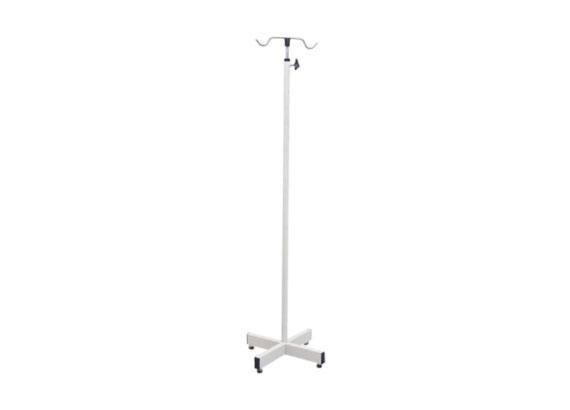Saline Stand: (245, 35, 326, 373)
